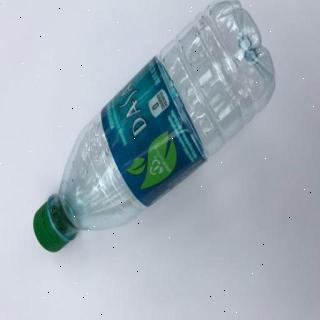Plastic-bottle: (33, 1, 276, 253)
